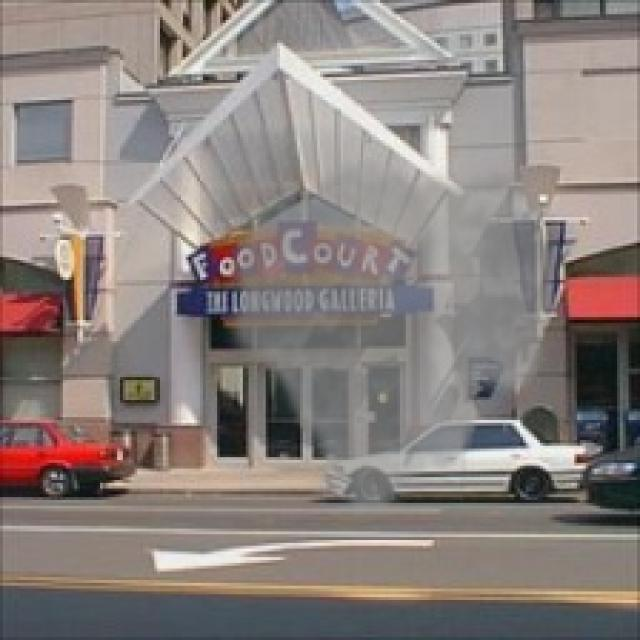Smoke: (217, 154, 563, 526)
